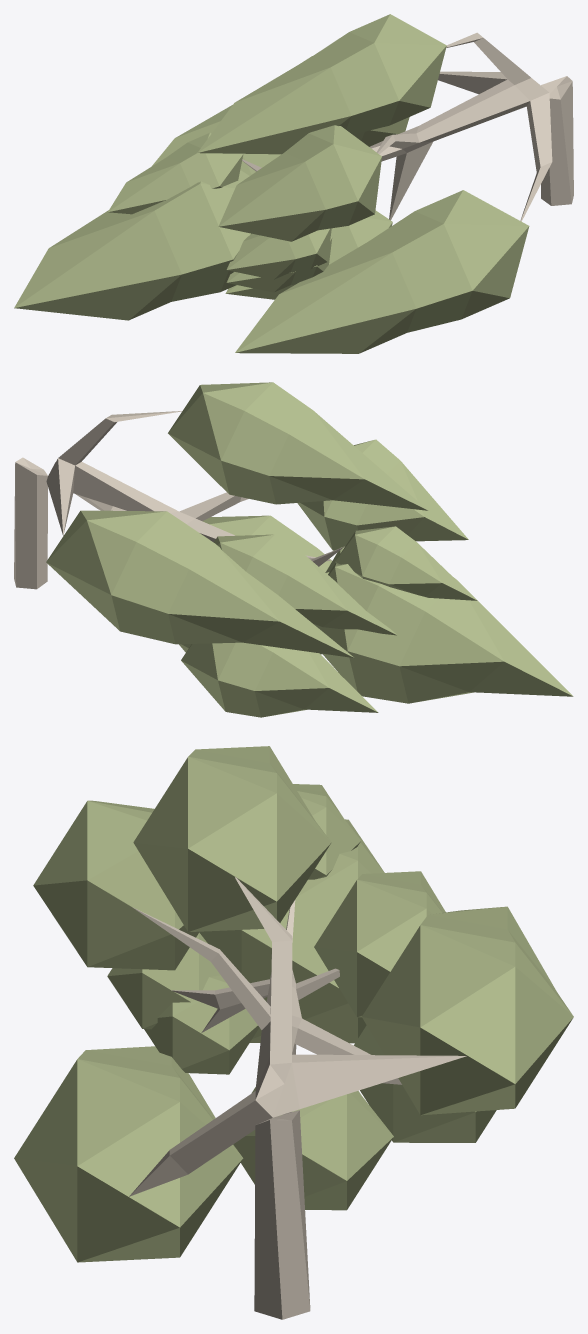
The model's file is Birch2.fbx.
3 views of the same model, one above another, from view 1: azimuth 30°, elevation 25°; view 2: azimuth 150°, elevation 25°; view 3: azimuth 270°, elevation 25° (orthographic). The views are drawn at different scales.
Visible parts, largest first — view 1: Birch2; view 2: Birch2; view 3: Birch2.
Boxes of the visible parts, <box> form: Birch2: <box>14,14,573,353</box>; Birch2: <box>14,382,573,717</box>; Birch2: <box>14,746,573,1319</box>.
Size of the model in its own units: 20.59 by 9.78 by 10.83.
